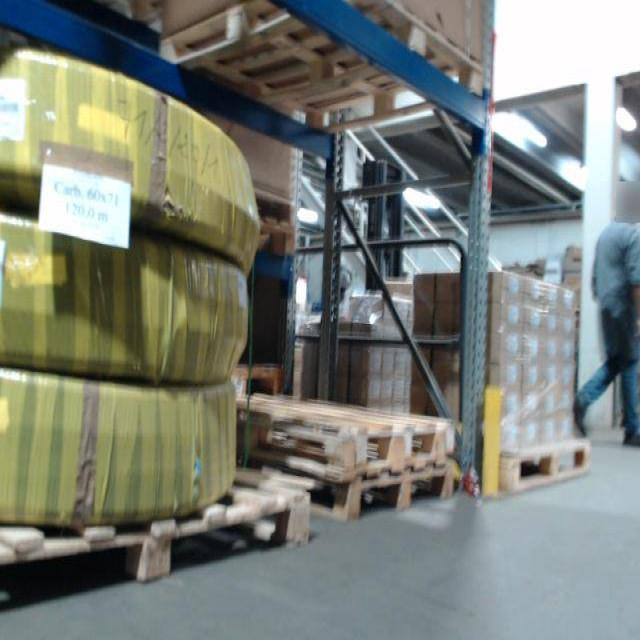pallet: (1, 457, 315, 620), (153, 0, 485, 134), (234, 391, 451, 486), (307, 468, 456, 526), (497, 437, 596, 497), (258, 191, 298, 253)
